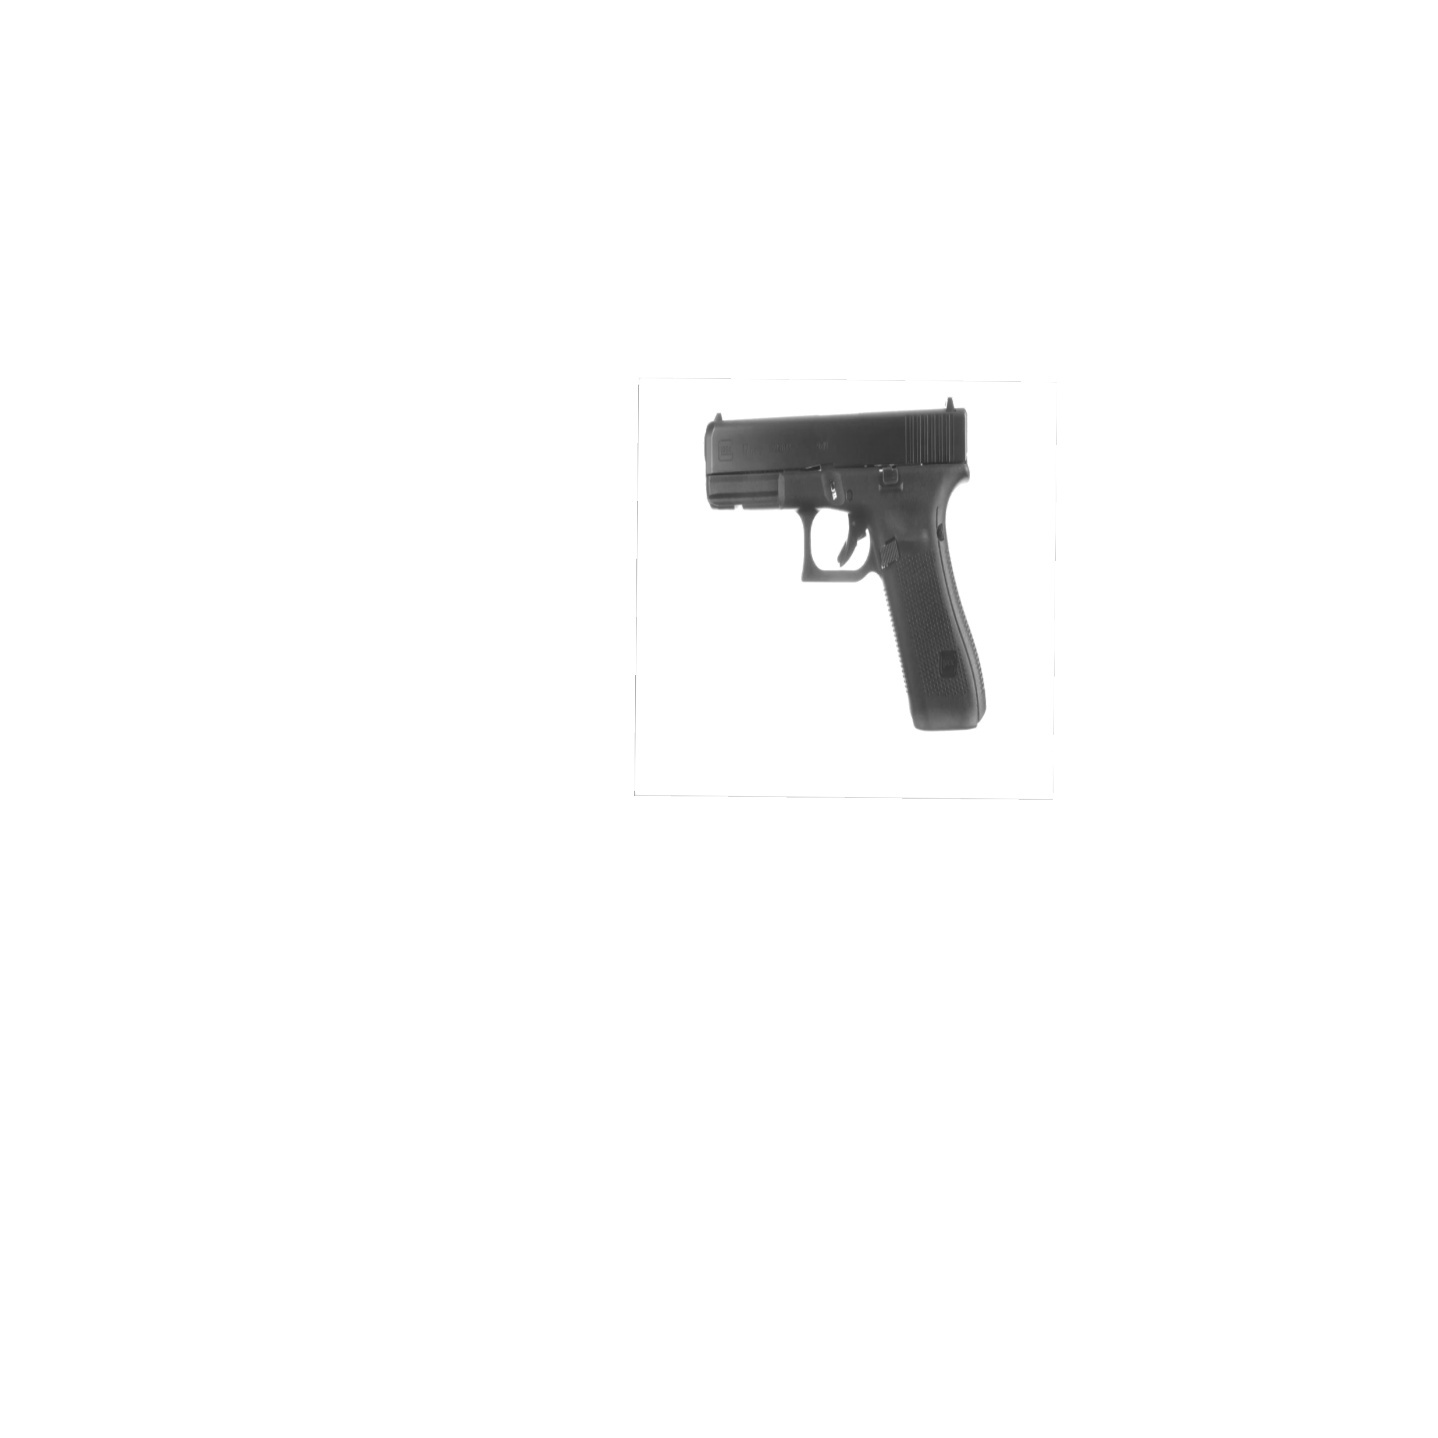gun: (705, 399, 982, 732)
